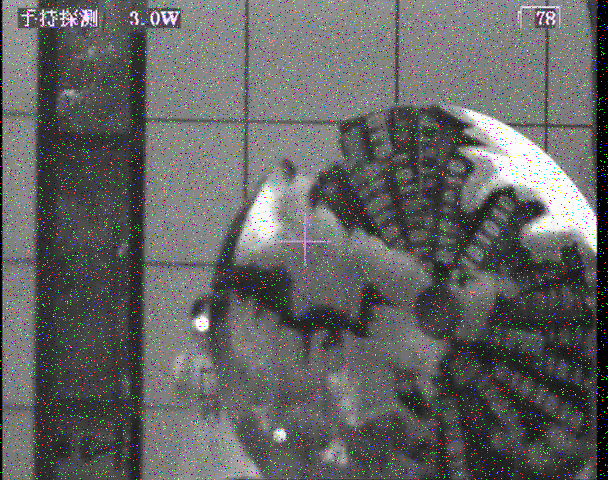my: (193, 313, 209, 332)
